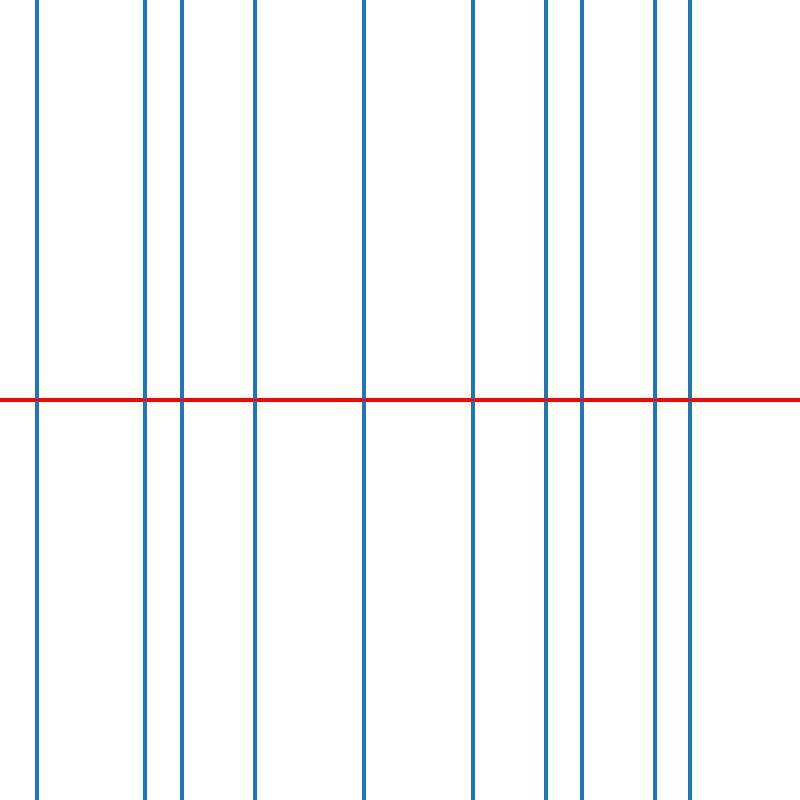root: (32, 396, 40, 404), (541, 396, 549, 404), (650, 396, 658, 404), (250, 396, 258, 404), (141, 396, 149, 404), (178, 396, 185, 404), (687, 396, 694, 404), (469, 396, 476, 404), (360, 396, 367, 404), (578, 396, 585, 404)
